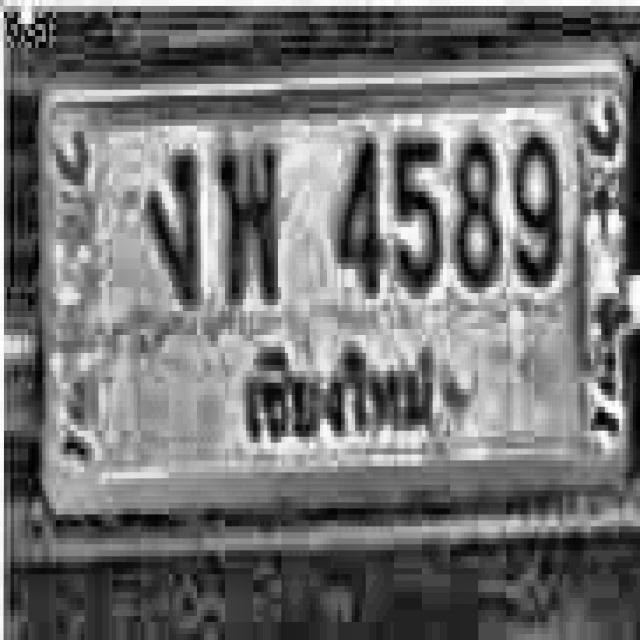license-plate: (34, 55, 635, 528)
